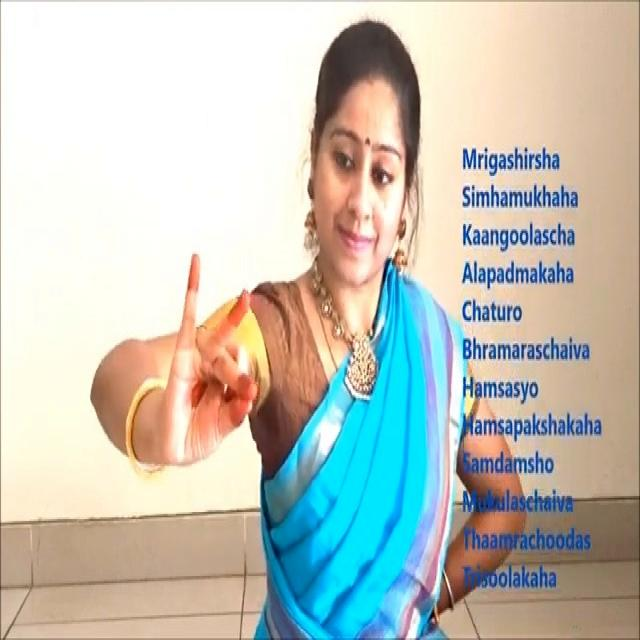Bhramara: (167, 235, 261, 492)
lady: (290, 20, 436, 304)
text: (456, 133, 607, 600)
